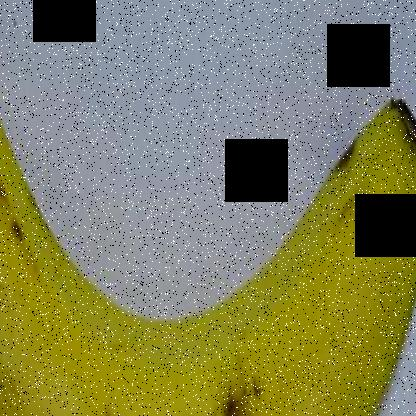freshripe: (1, 86, 415, 415)
